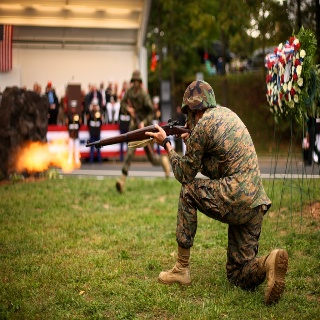rifle: (85, 118, 192, 149)
